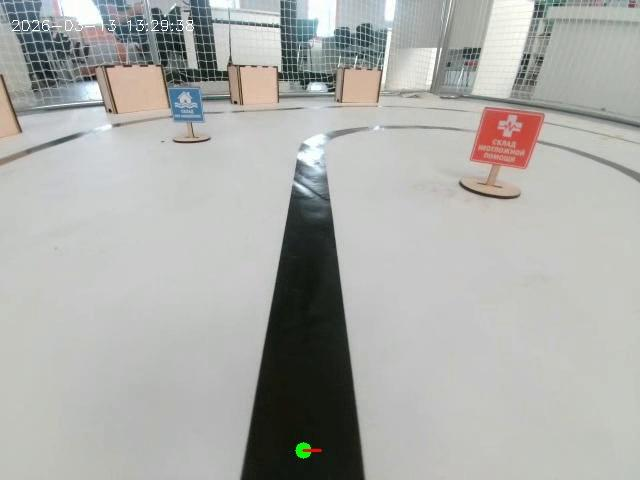flood: (152, 70, 233, 175)
medical: (469, 80, 542, 216)
